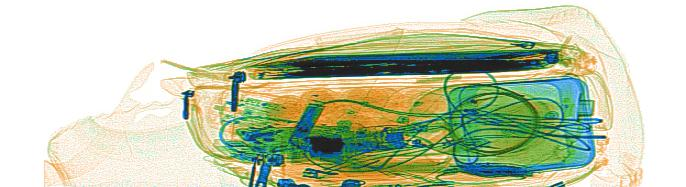battery: (290, 98, 325, 147)
